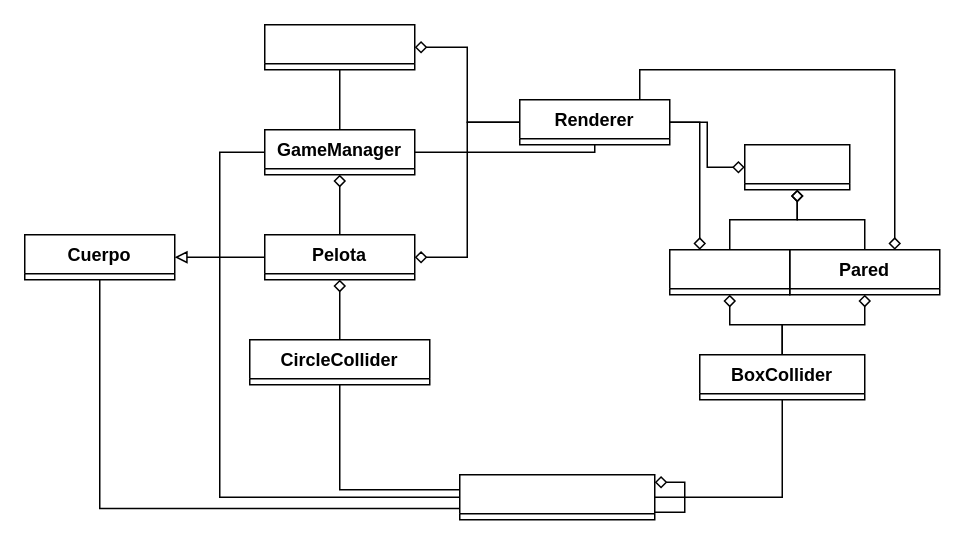
Some shapes in this 965 by 545 pixel diagram are drawn without their labels. The shapes that lost their labels are listed below. From the top down, each one's box as (x1, y1, x2, y2) in pixels, then its label:
(263, 23, 415, 70): Palo
(743, 143, 850, 190): Mesa
(668, 248, 790, 295): Tronera
(458, 473, 655, 520): PhysicsEngine
